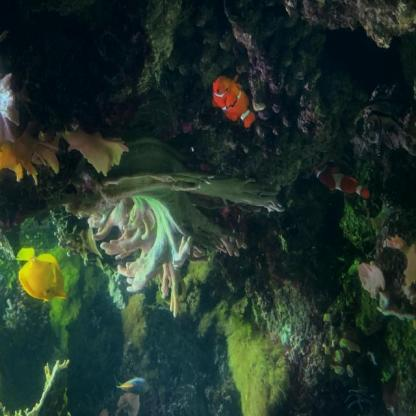fish: (16, 246, 68, 303), (209, 72, 258, 129), (312, 160, 372, 201), (113, 373, 152, 397)
